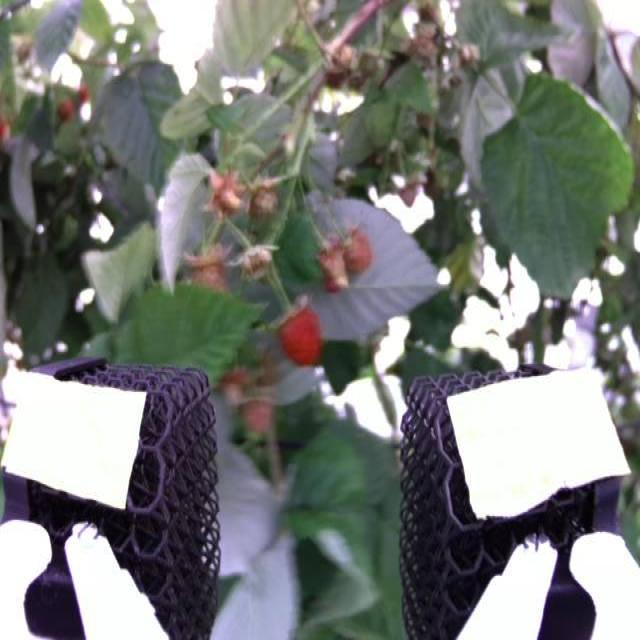Riped berries: (270, 288, 326, 364)
